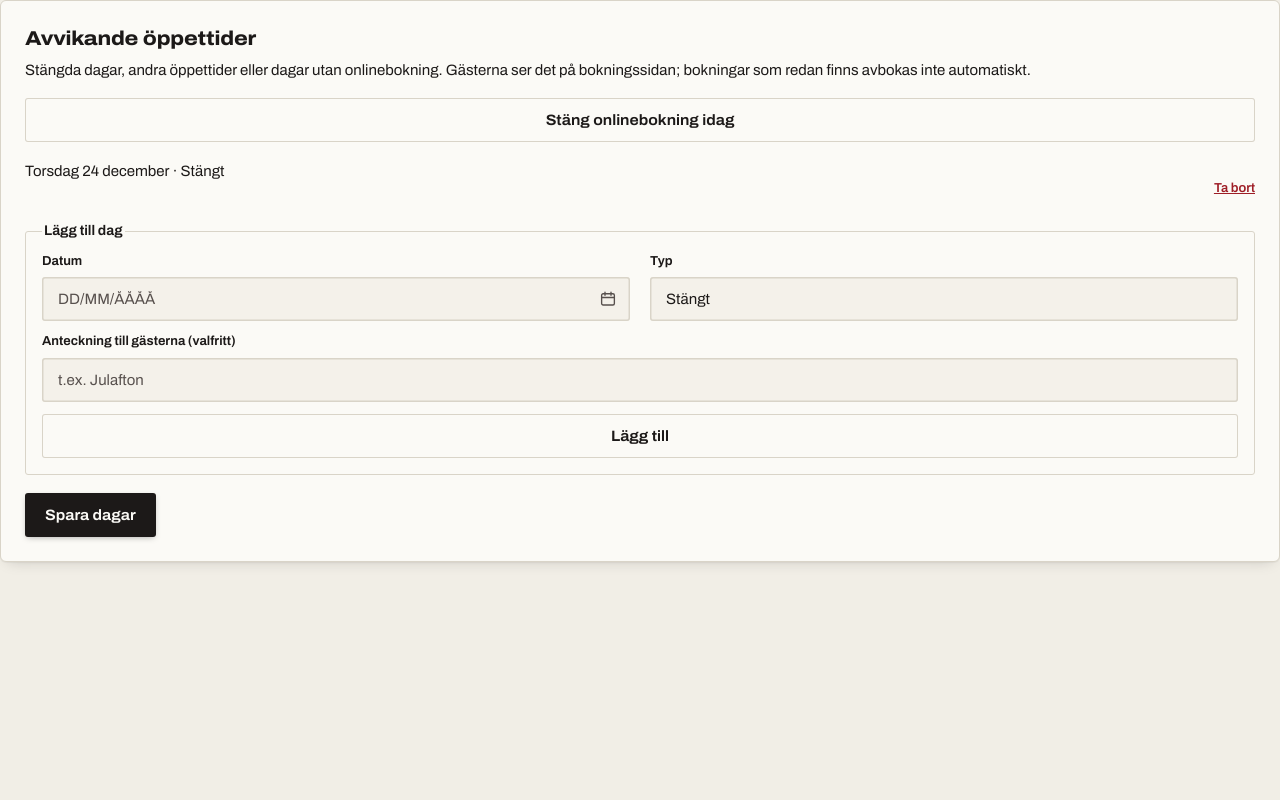
Test case: SpecialDaysCard › refuses a date twice and a passed date
This screenshot has width=1280, height=800.
Expected: the text "Torsdag 24 december" is shown, [25, 162, 169, 178]
Type "24/12/2026" into the field labelled "Datum" at (336, 300), box [42, 278, 630, 322]
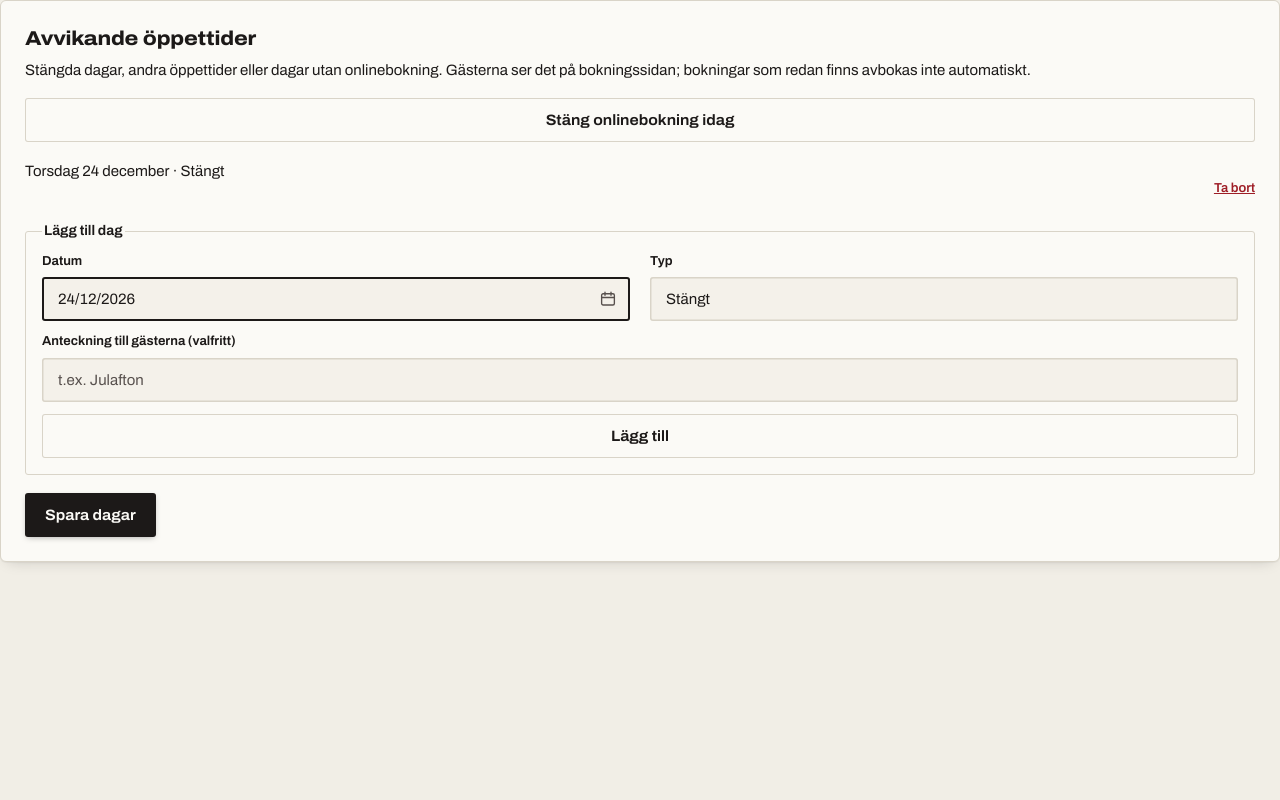
Click the button "Lägg till" at (640, 436), box [42, 414, 1238, 458]
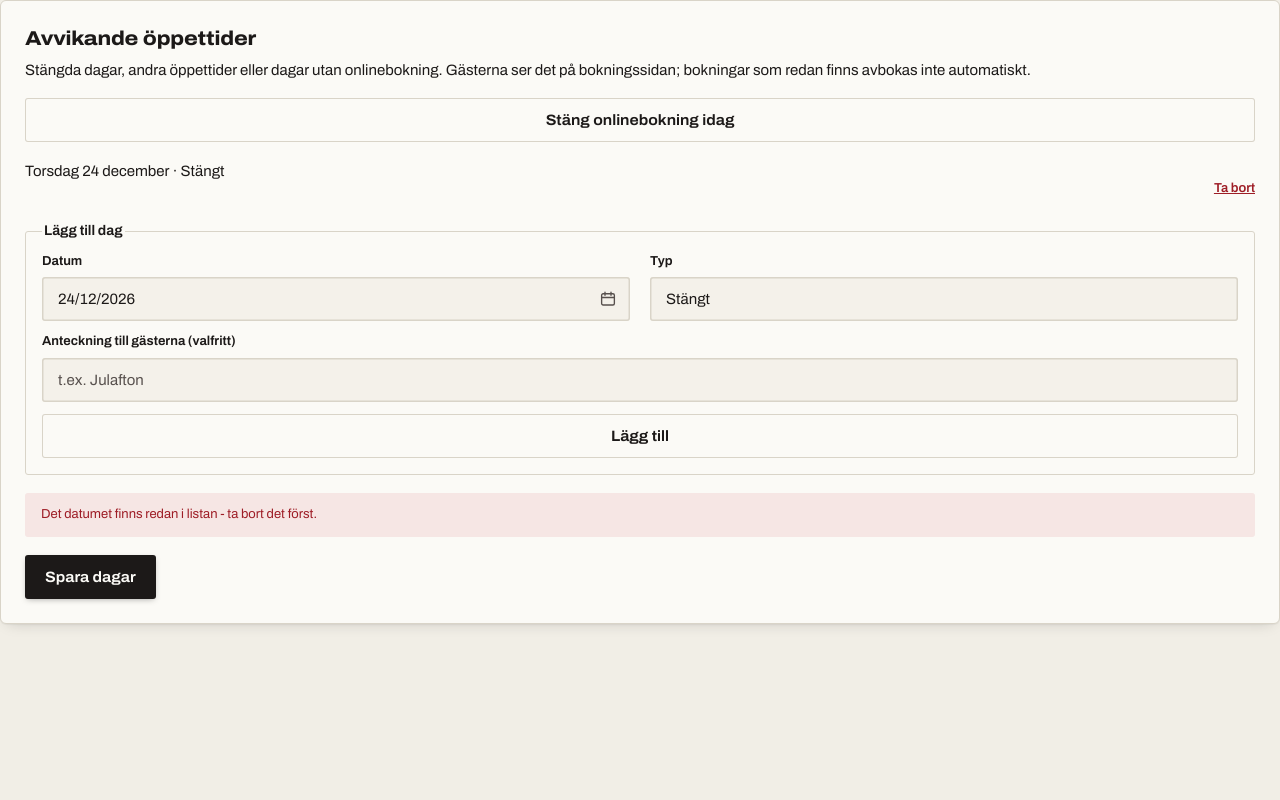
Expected: the message shows "finns redan", [41, 507, 317, 521]
